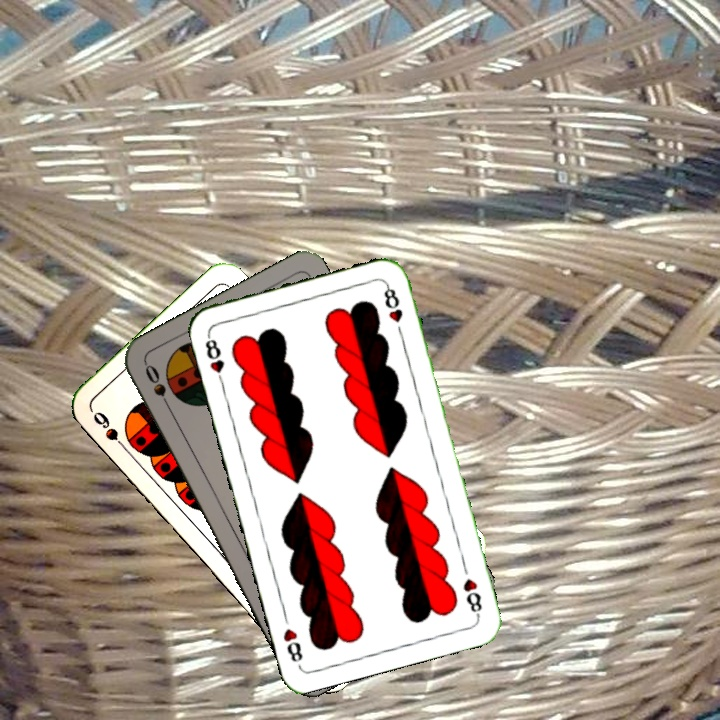H8: (201, 330, 227, 388), (459, 575, 485, 619)
S9: (89, 407, 132, 456)
SO: (140, 360, 175, 415)
